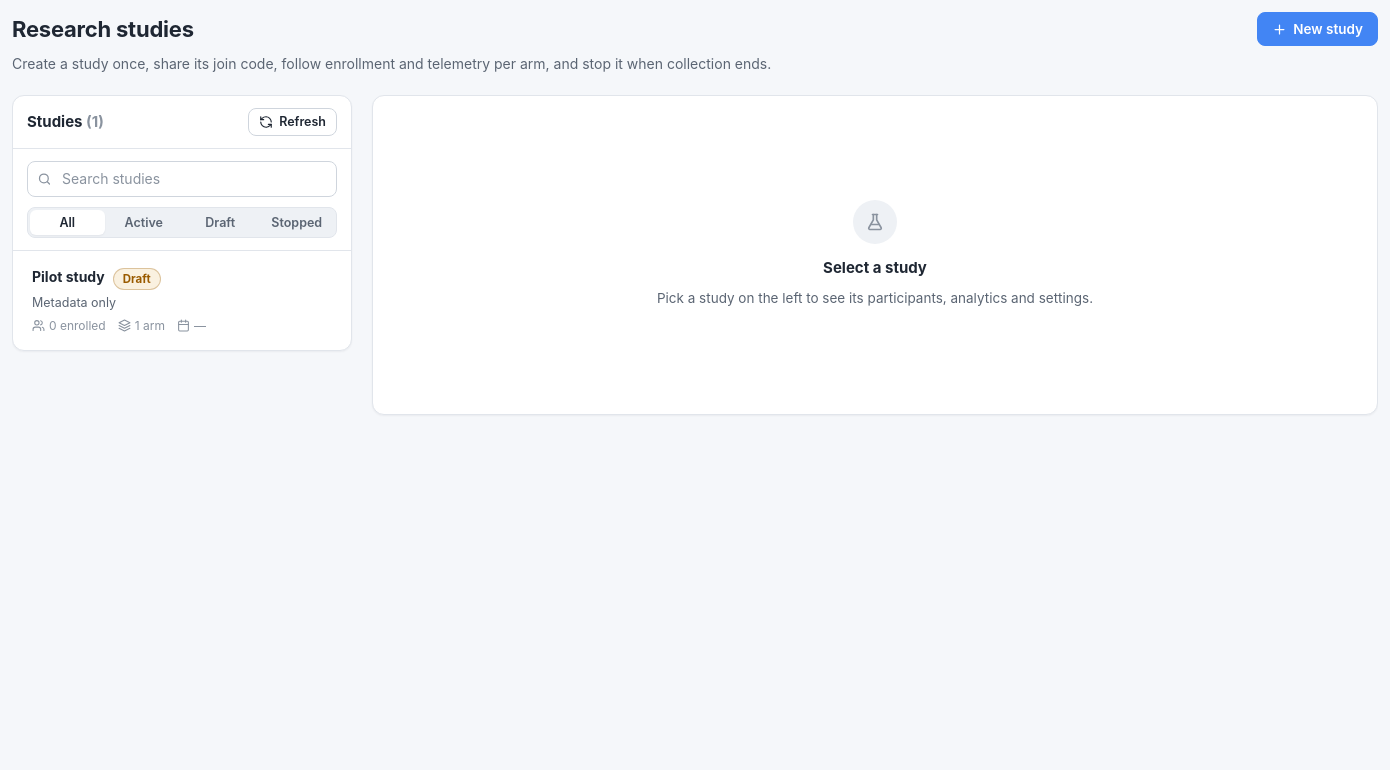
lists participants with their assigned arm in the Participants tab
Click the text "Pilot study" at [68, 277], box [32, 268, 105, 287]
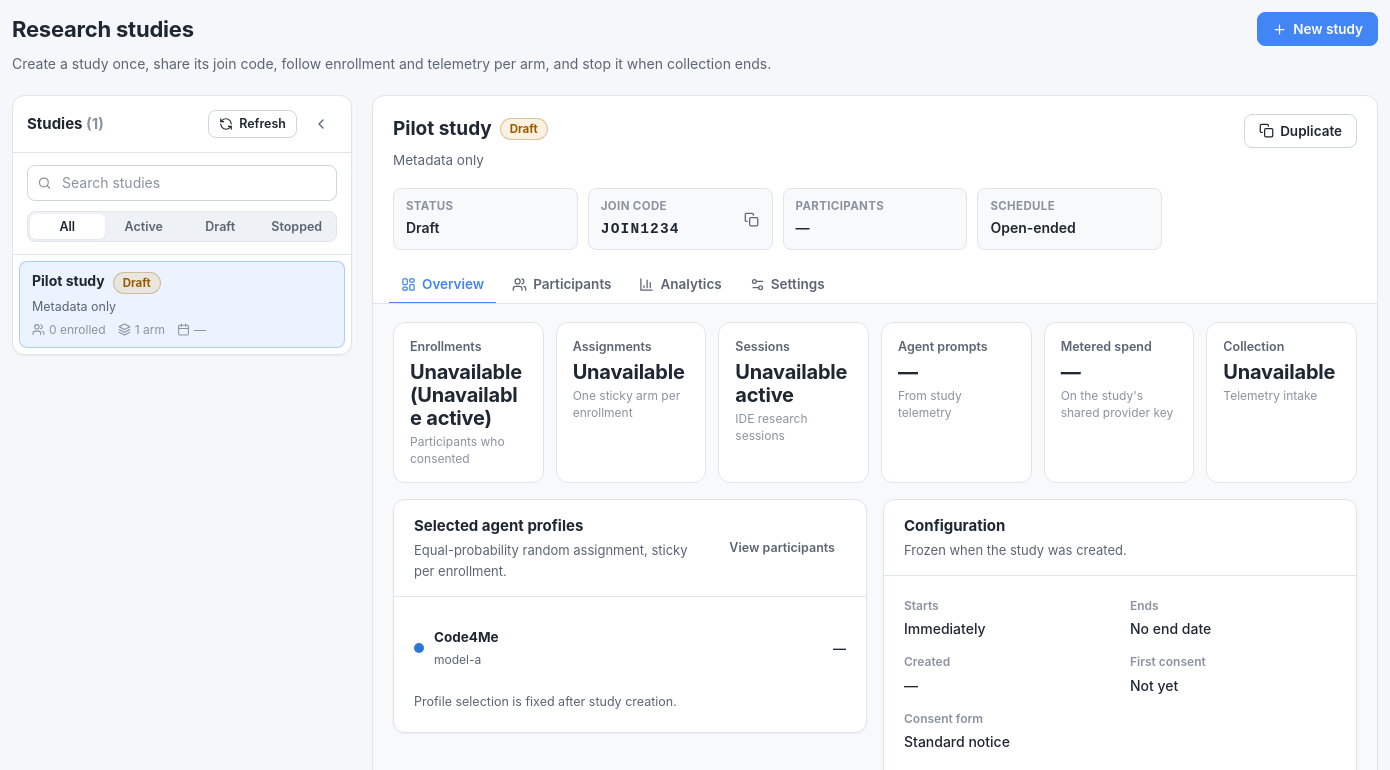
Click the tab "Participants" at [562, 285], box [500, 266, 624, 304]
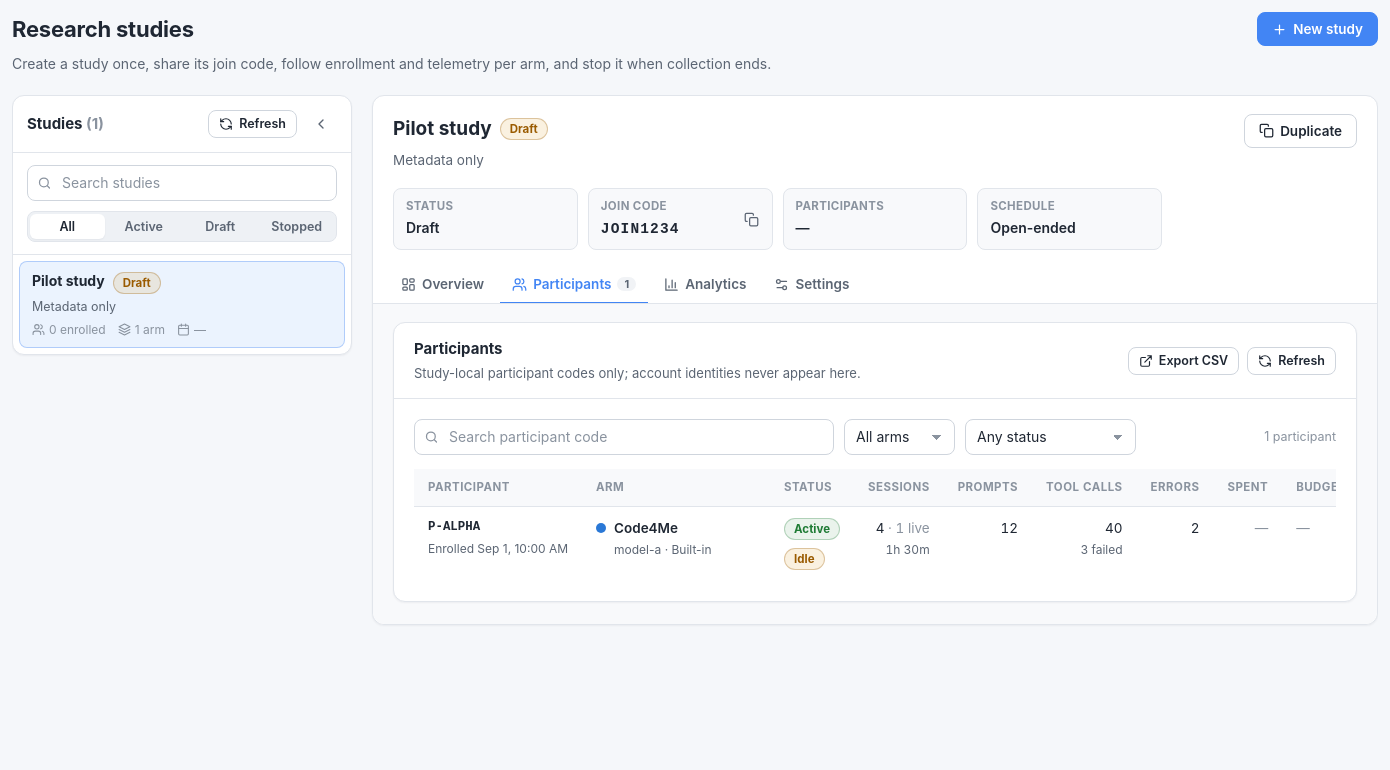
Check: the text "Code4Me" is shown, box [614, 520, 678, 536]
Check: the text "P-ALPHA" is shown, box [428, 520, 480, 534]
Check: the text "12" is shown, box [944, 507, 1032, 581]
